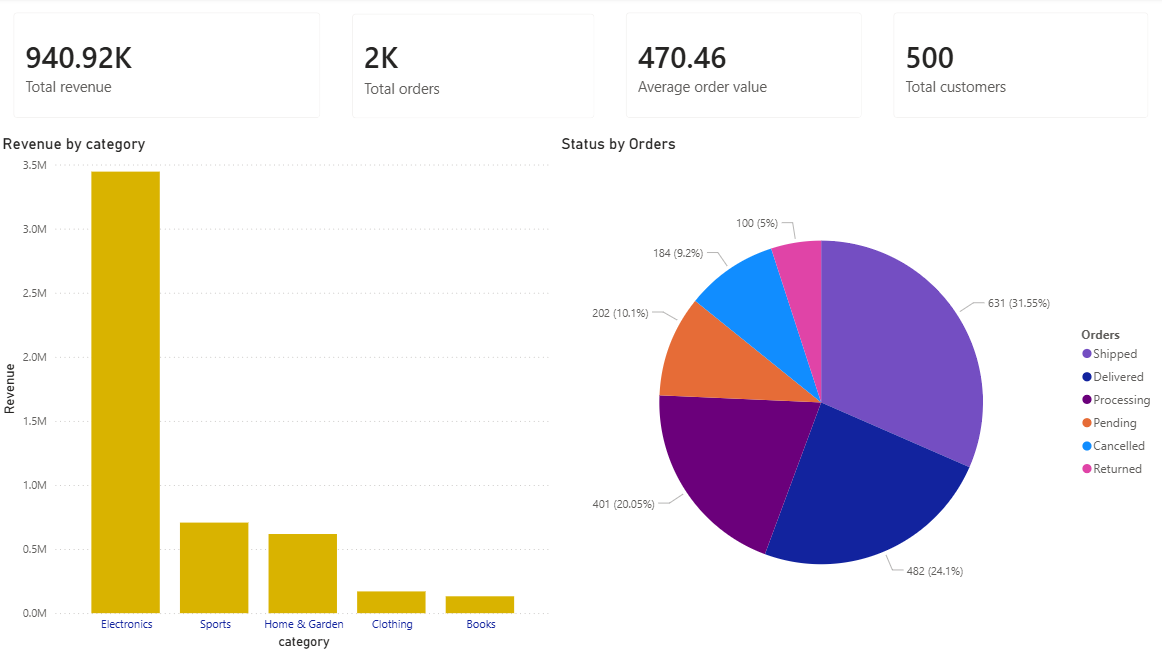

What the dashboard file says about the page in this screenshot:
{"tool":"powerbi","page":{"name":"Executive Summary","canvas":[1280,720],"ordinal":0},"visuals":[{"type":"cardVisual","fields":{"Data":["Sum(Orders.final_amount)"]},"box":[0,0,371.9,150.9],"z":0},{"type":"cardVisual","fields":{"Data":["CountNonNull(Orders.order_id)"]},"box":[371.9,1.4,300.5,149.6],"z":1000},{"type":"cardVisual","fields":{"Data":["Avg(Orders.final_amount)"]},"box":[672.4,0,293.7,150.9],"z":2000},{"type":"cardVisual","fields":{"Data":["Count(Customers.customer_id)"]},"box":[966,0,314.2,150.9],"z":3000},{"type":"columnChart","fields":{"Category":["Products.category"],"Y":["Sum(Order Items.line_total)"]},"box":[0,150.9,613.4,569.5],"z":4000},{"type":"pieChart","fields":{"Category":["Orders.order_status"],"Y":["CountNonNull(Orders.order_id)"]},"box":[613.4,150.9,666.9,569.5],"z":5000}]}

Visuals, with their boxes in screenshot pixels (x1, y1, x2, y2), scaled from the page's 1280x720 canvas onto the 1162x652 screenshot:
cardVisual - Sum(Orders.final_amount): (x1=0, y1=0, x2=338, y2=137)
cardVisual - CountNonNull(Orders.order_id): (x1=338, y1=1, x2=610, y2=137)
cardVisual - Avg(Orders.final_amount): (x1=610, y1=0, x2=877, y2=137)
cardVisual - Count(Customers.customer_id): (x1=877, y1=0, x2=1161, y2=137)
columnChart - Products.category x Sum(Order Items.line_total): (x1=0, y1=137, x2=557, y2=651)
pieChart - Orders.order_status x CountNonNull(Orders.order_id): (x1=557, y1=137, x2=1161, y2=651)
